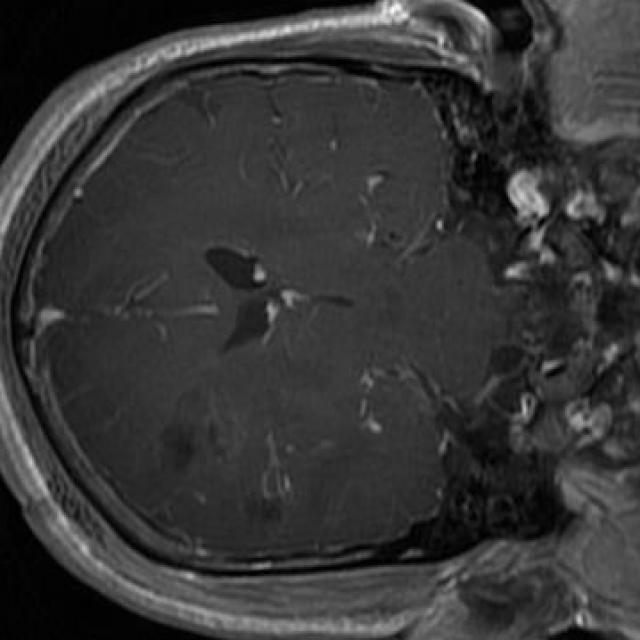glioma: (160, 385, 319, 512)
